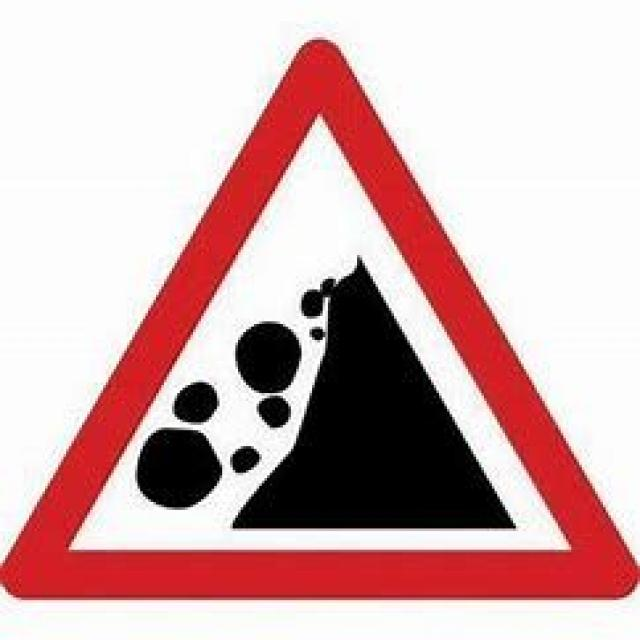FALLING_ROCKS: (0, 34, 637, 600)
